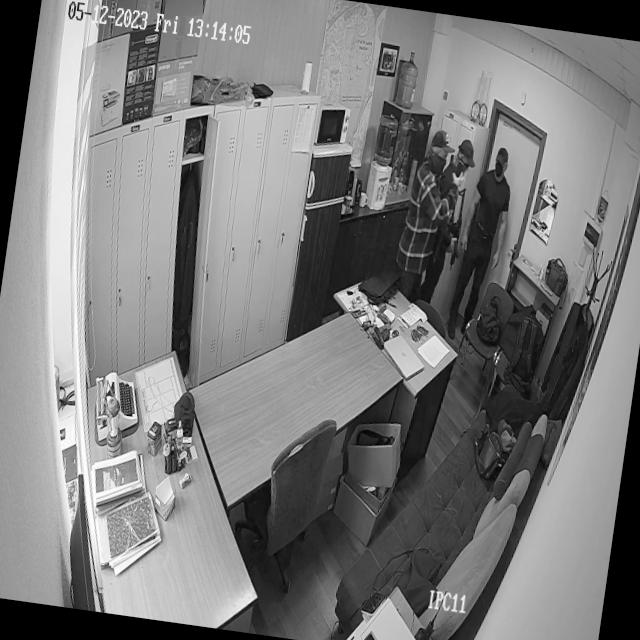gun: (448, 188, 468, 272)
person: (453, 146, 517, 332), (398, 131, 452, 294)
person with a gun: (429, 138, 470, 301)
